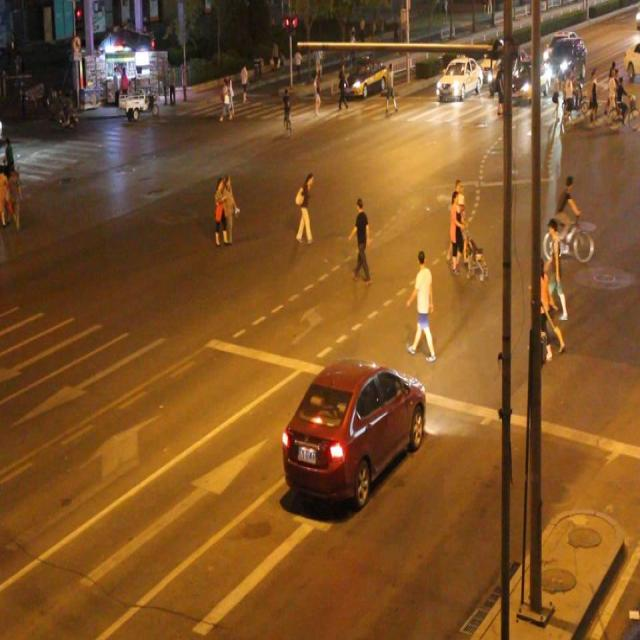car: (278, 359, 425, 510)
